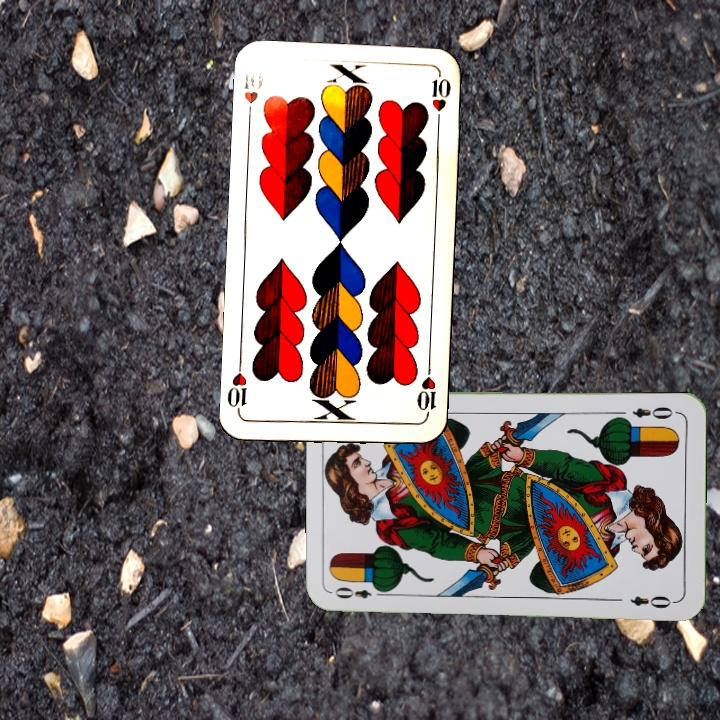EO: (331, 584, 389, 602), (628, 402, 675, 421)
H10: (413, 362, 439, 421), (240, 70, 261, 124)
